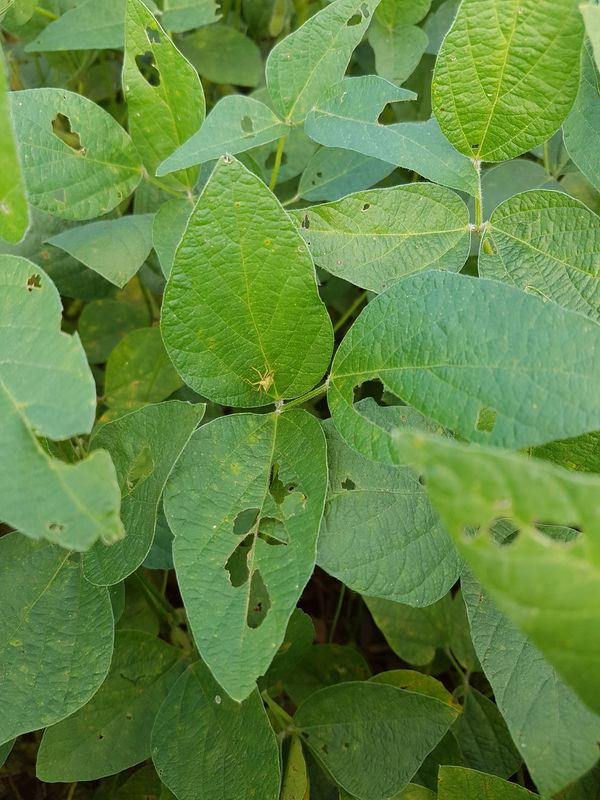Euschistus_heros_ninfa: (241, 360, 284, 400)
